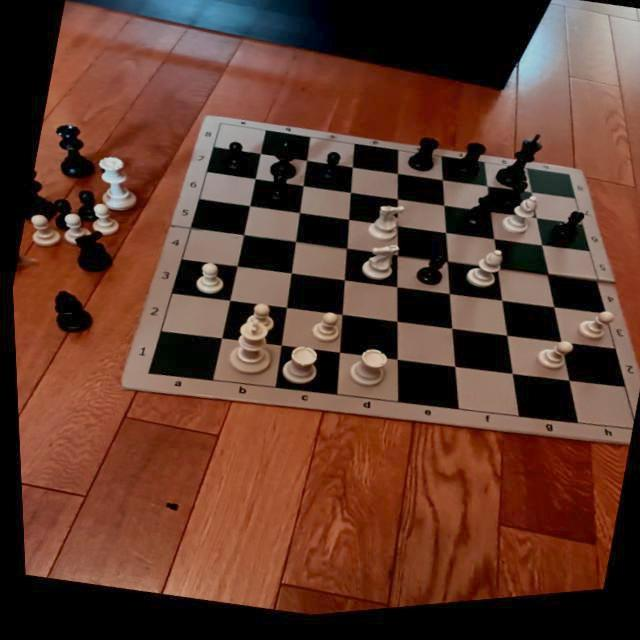chess-table-corners: (137, 368, 155, 382), (560, 180, 574, 192), (212, 123, 226, 133), (620, 432, 630, 444)
